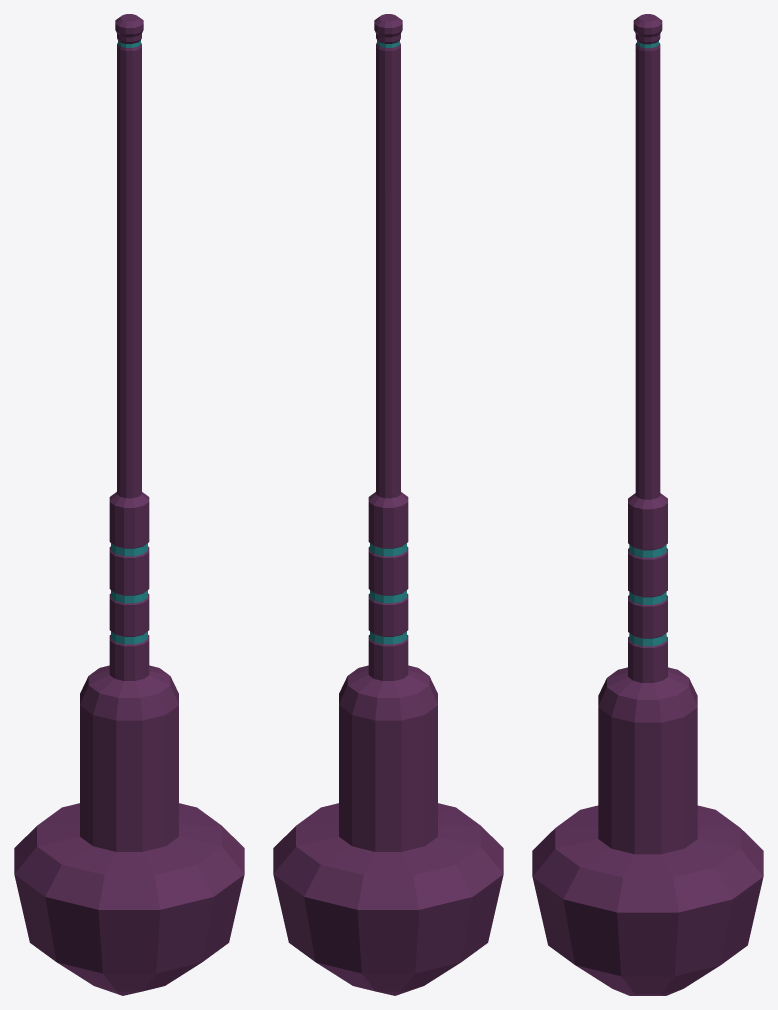
File: Antenna1.fbx
The picture shows the model from 3 angles, left to right: view 1: azimuth 30°, elevation 25°; view 2: azimuth 150°, elevation 25°; view 3: azimuth 270°, elevation 25°; orthographic projection.
Visible parts, largest first — view 1: Antenna1; view 2: Antenna1; view 3: Antenna1.
Part boxes in pixels (x1,y1,x2,y2): Antenna1: [14, 14, 244, 995]; Antenna1: [273, 14, 503, 995]; Antenna1: [532, 14, 763, 995].
Size of the model in its own units: 78.93 by 366 by 78.93.
